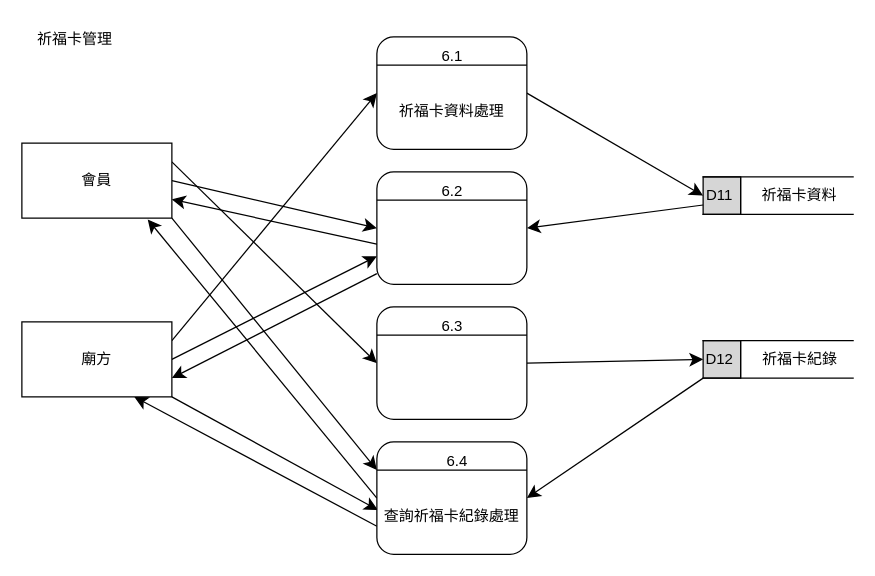
Some shapes in this 875 by 576 pixel diagram are drawn without their labels. Here are the shapes that lost their labels. From the top down, the box of each, then its label:
(376, 171, 527, 284): 查詢祈福卡資料處理
(376, 306, 527, 419): 填寫祈福卡處理
